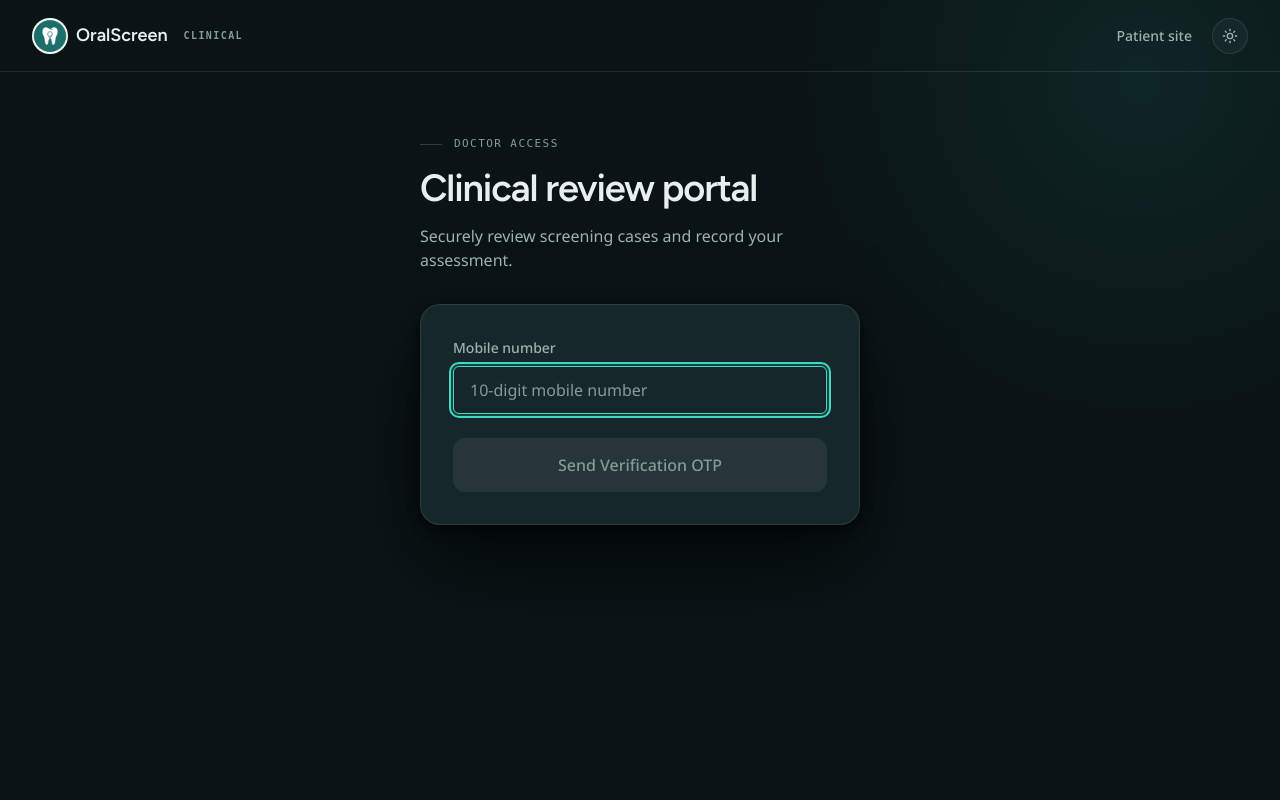
the phone step › can back out to the phone step after a failed send
Type "9876543210" into the field labelled "Mobile number".
click(640, 390); type("9876543210")  # box [453,366,827,414]
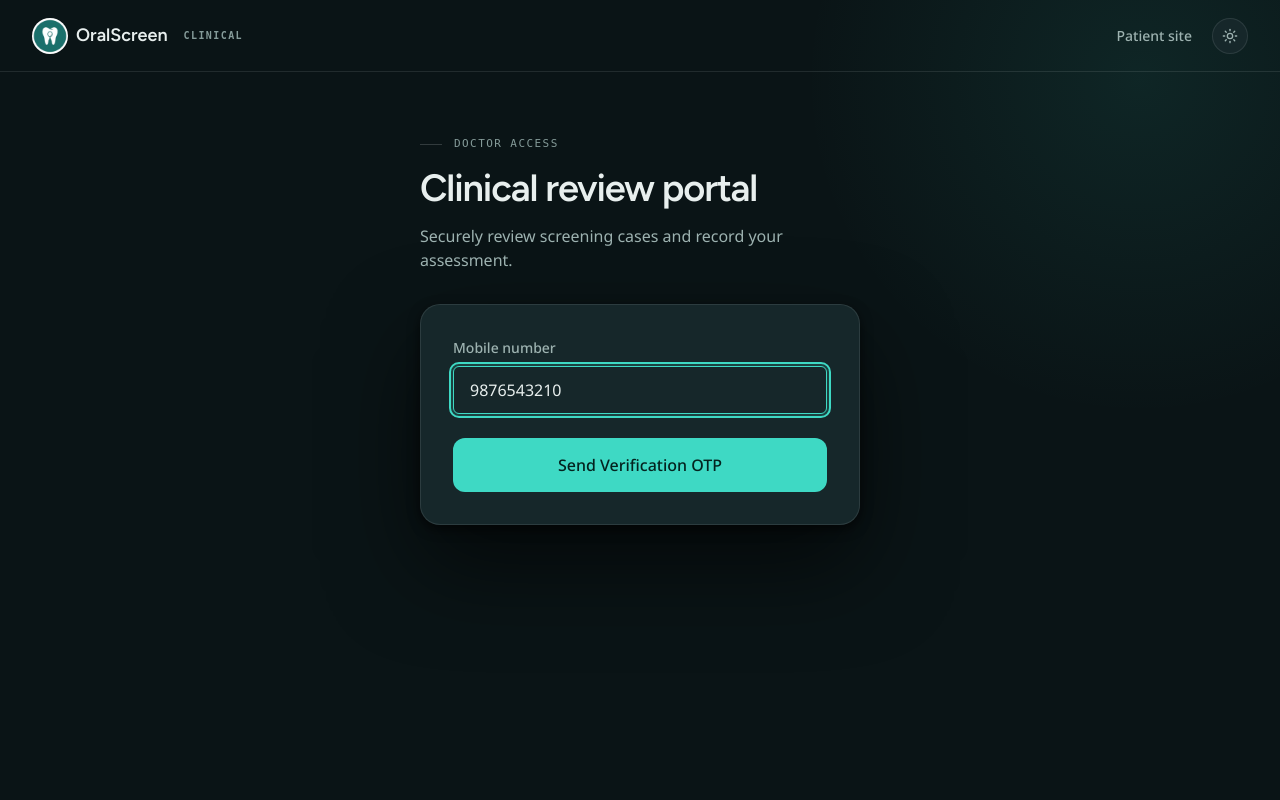
Click the button "Send Verification OTP".
click(640, 465)  # box [453,438,827,492]
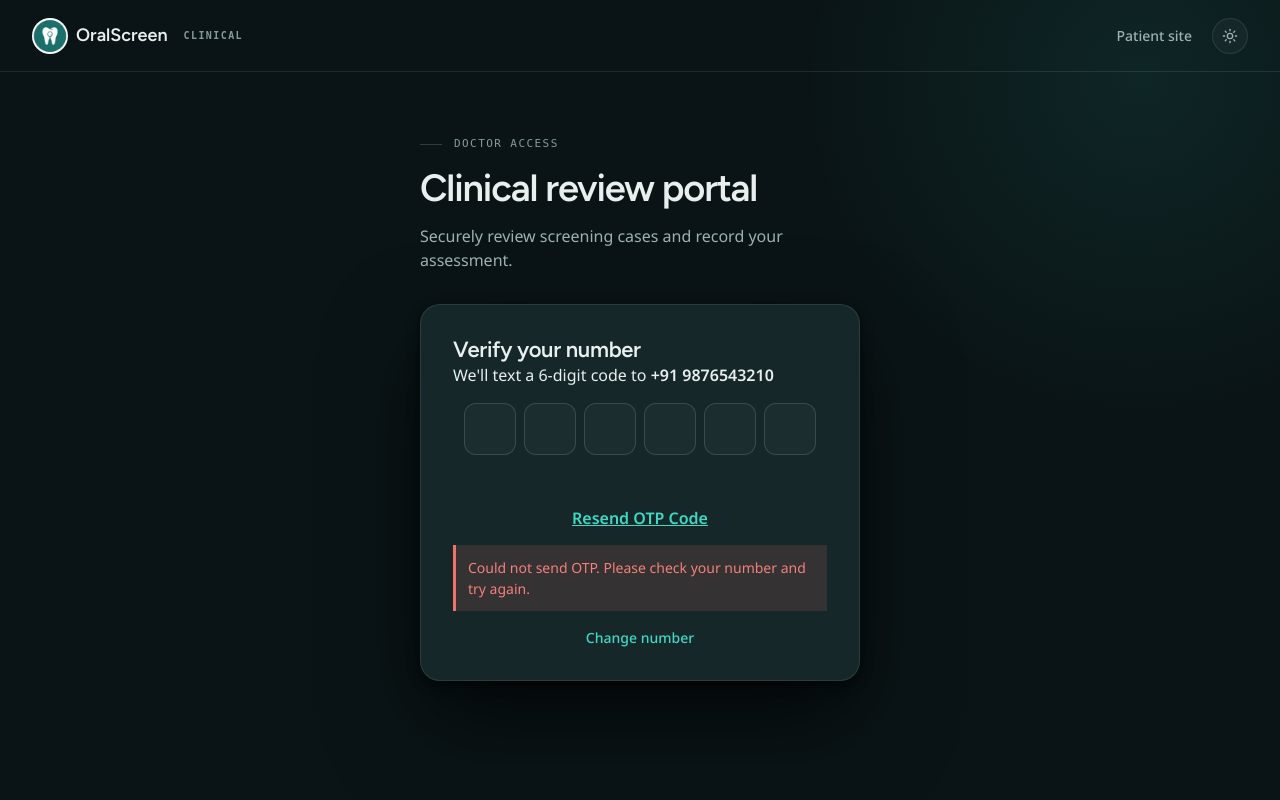
Result: the message "Could not send OTP. Please check your number and try again." is shown at [453,545,827,611]
Click the button "Change number".
click(640, 638)  # box [580,627,700,648]
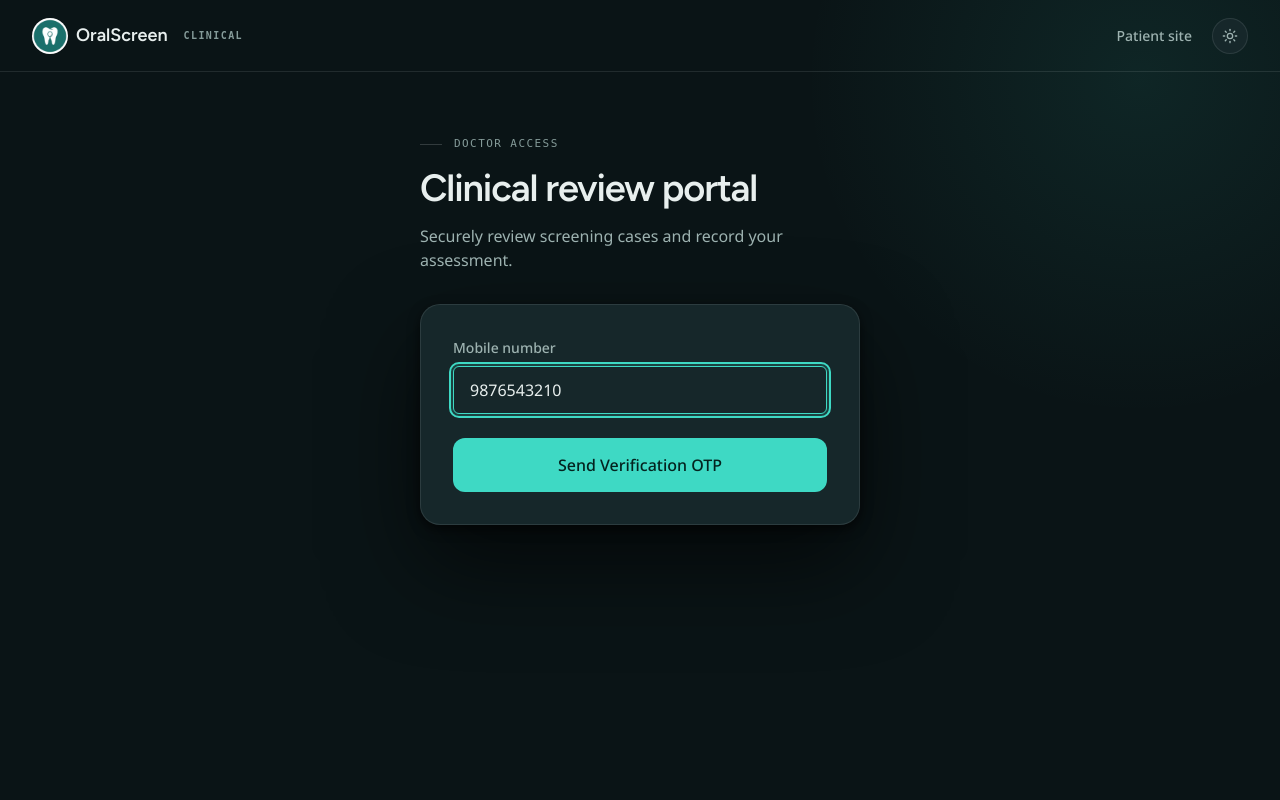
Result: the field labelled "Mobile number" is shown at [453,366,827,414]
